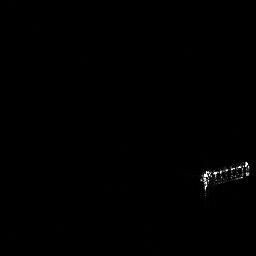ship: (200, 159, 251, 201)
